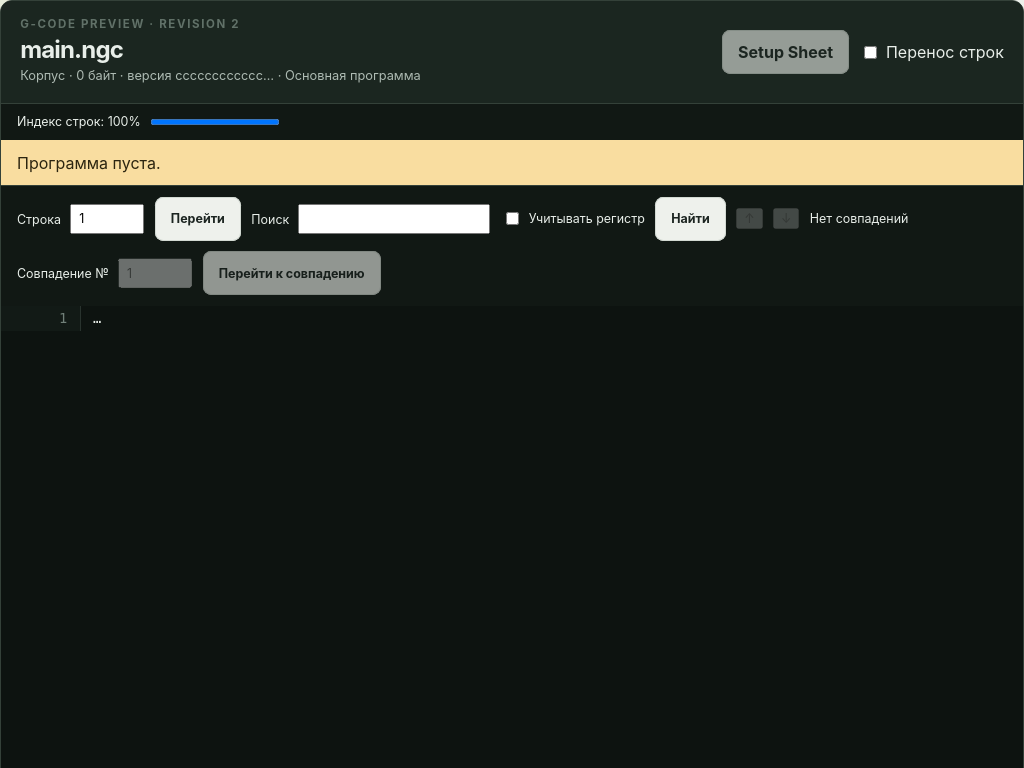
Test: GCodePreview › keeps completed derived analysis valid if the Worker later crashes during search
The width and height of the screenshot is (1024, 768).
Step 1. Type "X" into the search field → (394, 219), box [298,204,490,234]
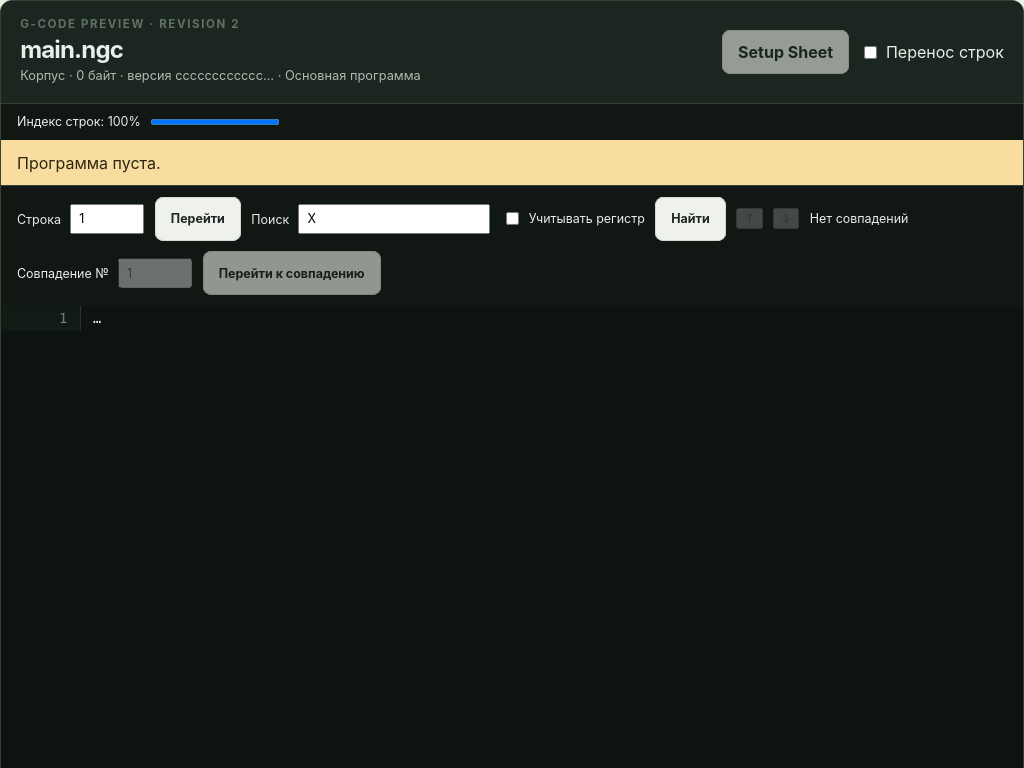
Step 2. Submit the form "Поиск Учитывать регистр Найти ↑ ↓ Нет совпадений", box [251,197,908,241]
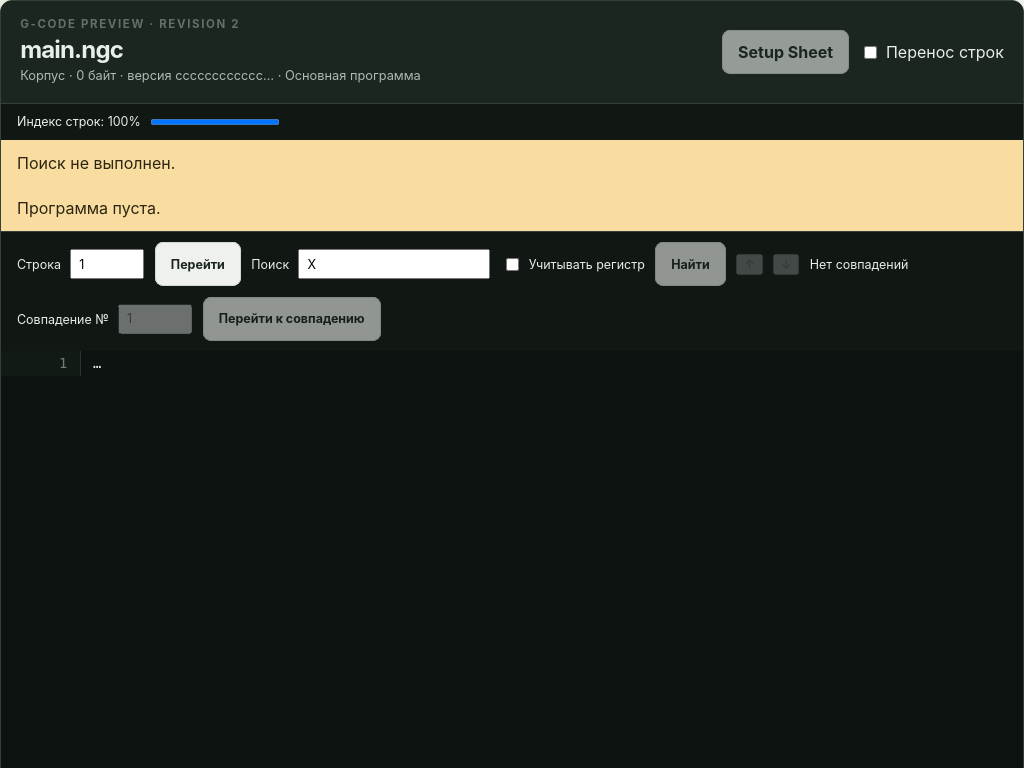
Now the text "Поиск не выполнен." is shown, box [1,140,1023,185]
